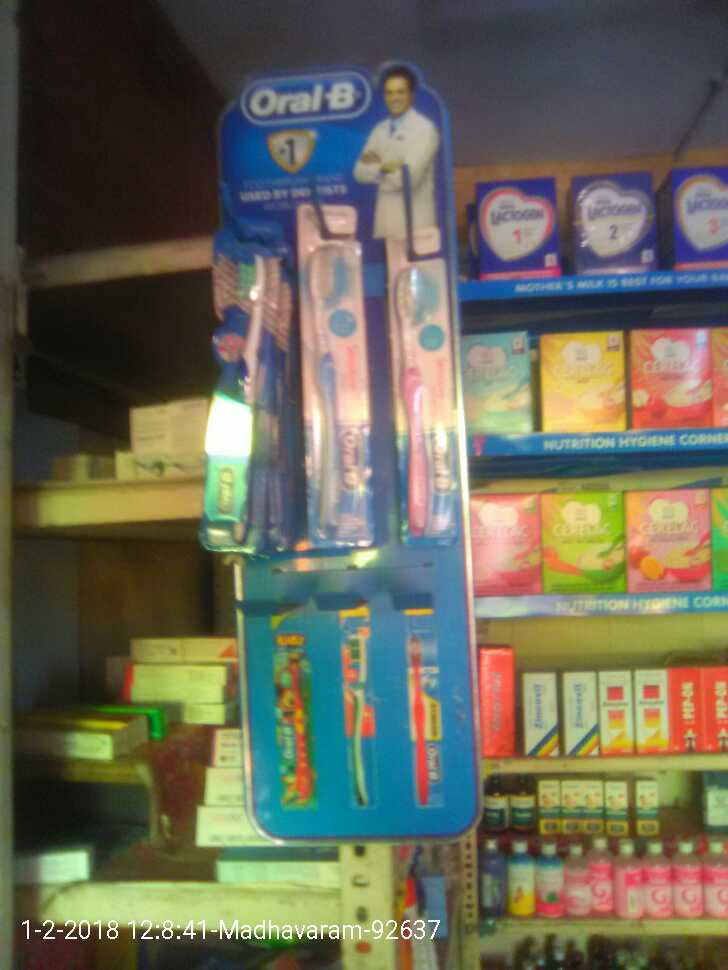oralb: (295, 236, 378, 553), (211, 241, 281, 564), (385, 269, 450, 543)
